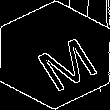M_NW: (18, 22, 92, 88)
